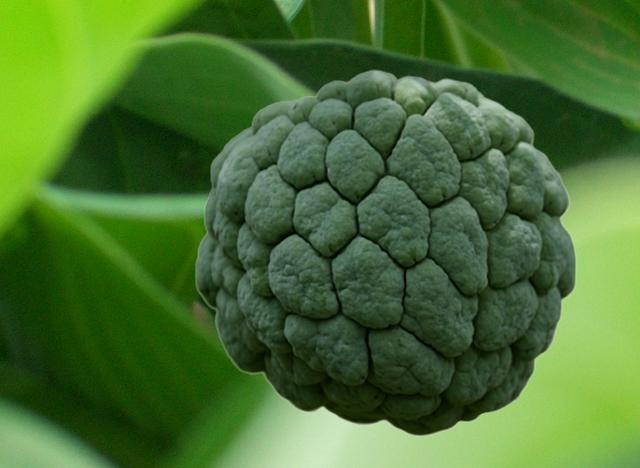atis: (194, 69, 576, 436)
